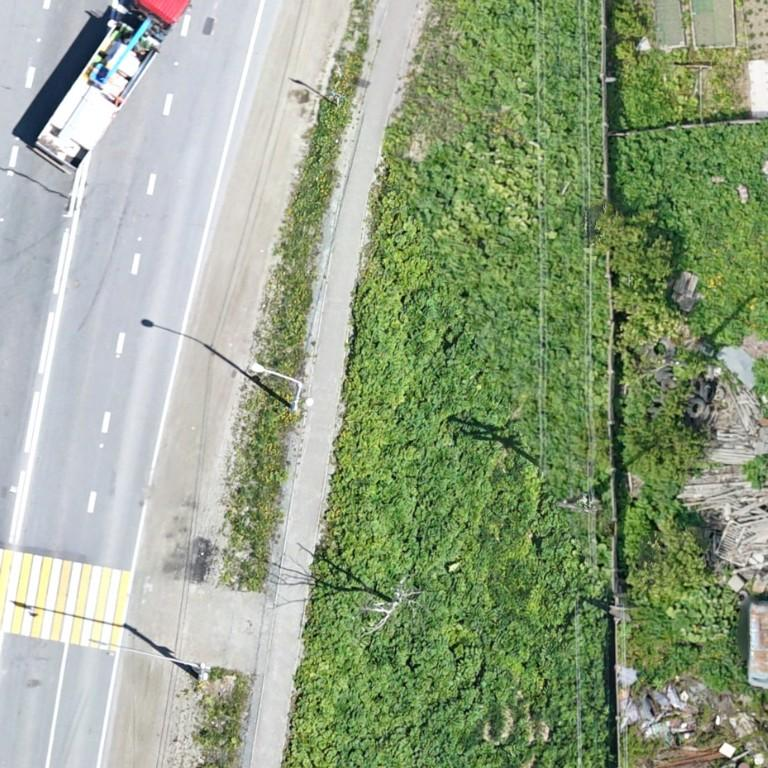hogweed: (613, 127, 767, 335)
